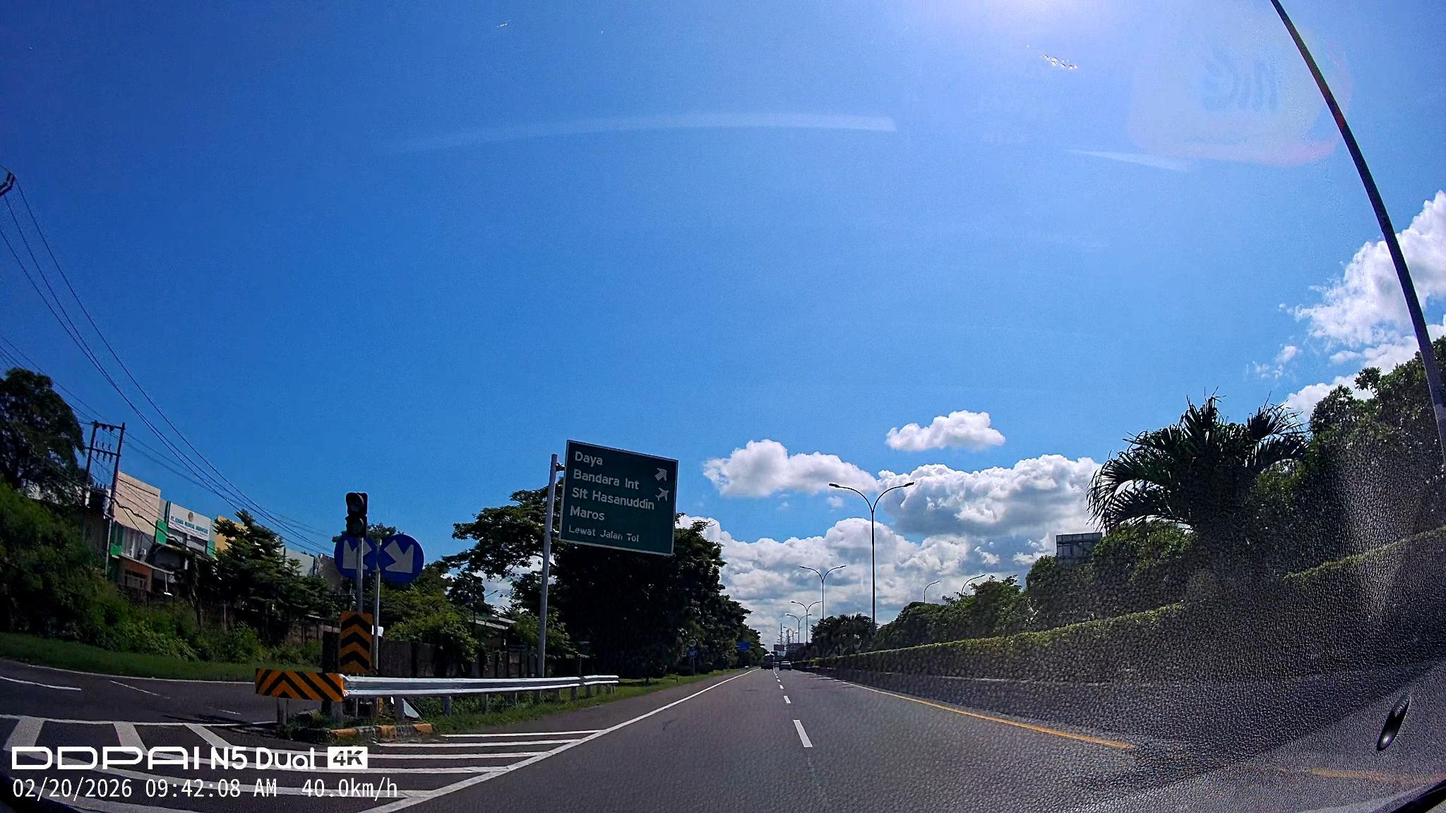rambu_teks: (566, 440, 677, 553)
